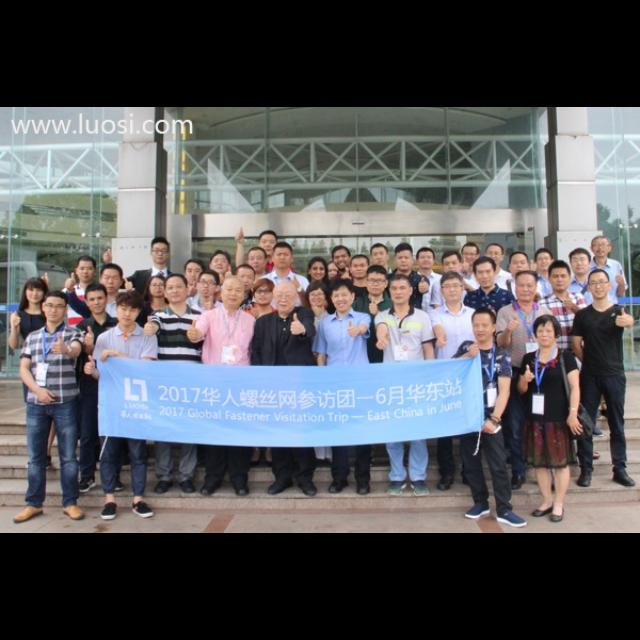head: (41, 290, 70, 324), (586, 268, 616, 300), (472, 308, 498, 344), (534, 316, 562, 348), (438, 272, 466, 304), (330, 282, 358, 314), (164, 273, 192, 305), (115, 295, 143, 327), (514, 270, 540, 304), (273, 284, 301, 314), (547, 262, 573, 294), (472, 256, 498, 288), (388, 273, 414, 305), (84, 284, 110, 316), (220, 278, 248, 306), (100, 266, 126, 296), (270, 241, 296, 269), (197, 271, 223, 299), (368, 265, 390, 297), (74, 258, 98, 284), (508, 252, 530, 280), (254, 280, 276, 308), (247, 246, 269, 274), (185, 259, 207, 287), (150, 239, 172, 267), (25, 278, 47, 306), (395, 243, 415, 273), (591, 234, 613, 260), (570, 250, 592, 276), (442, 251, 464, 277), (416, 246, 438, 272), (307, 284, 329, 310), (332, 244, 352, 272), (209, 252, 231, 276), (352, 255, 372, 281), (534, 250, 556, 272), (308, 258, 328, 282), (260, 232, 278, 258), (462, 242, 481, 266), (485, 244, 505, 266), (372, 245, 392, 267), (148, 277, 168, 299)
person: (444, 306, 528, 530), (102, 235, 186, 450), (12, 292, 88, 528), (85, 292, 162, 524), (65, 262, 142, 482), (248, 282, 320, 498), (373, 272, 439, 500), (143, 271, 209, 495), (572, 267, 638, 488), (514, 314, 582, 524), (312, 277, 376, 498), (187, 274, 250, 498), (428, 270, 490, 496), (494, 269, 556, 493), (533, 260, 601, 462), (8, 276, 78, 472), (428, 250, 479, 502), (461, 256, 519, 472), (323, 245, 377, 471), (40, 254, 106, 436), (70, 282, 126, 496), (133, 274, 185, 496), (502, 252, 552, 476), (260, 242, 314, 438), (246, 228, 300, 424), (344, 254, 388, 481), (300, 256, 350, 449), (476, 242, 520, 460), (183, 270, 229, 478), (233, 245, 277, 462), (384, 242, 432, 440), (298, 282, 340, 504), (560, 248, 608, 438), (351, 264, 394, 472), (240, 278, 286, 472), (202, 246, 242, 462), (412, 244, 452, 453), (458, 242, 494, 470), (586, 234, 630, 418), (364, 240, 400, 464), (177, 258, 215, 460), (532, 248, 570, 434)
